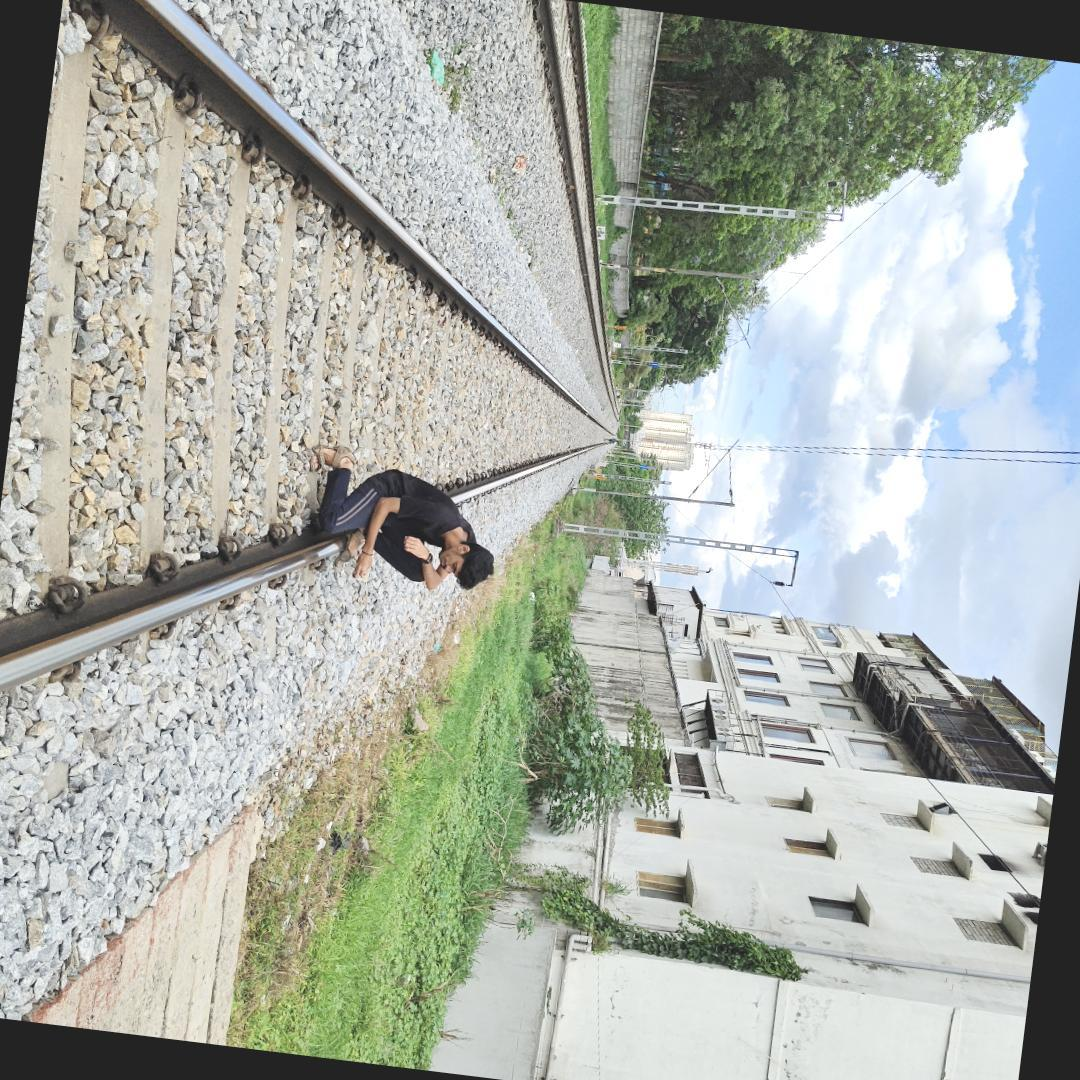sitting: (306, 441, 502, 600)
